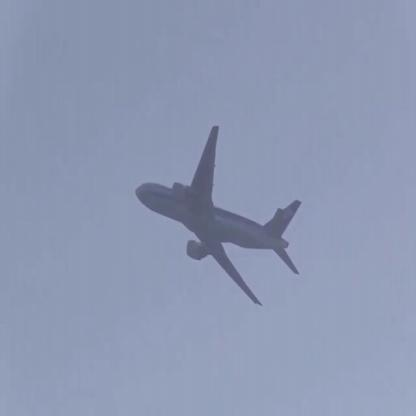CIV_Plane: (132, 125, 308, 306)
